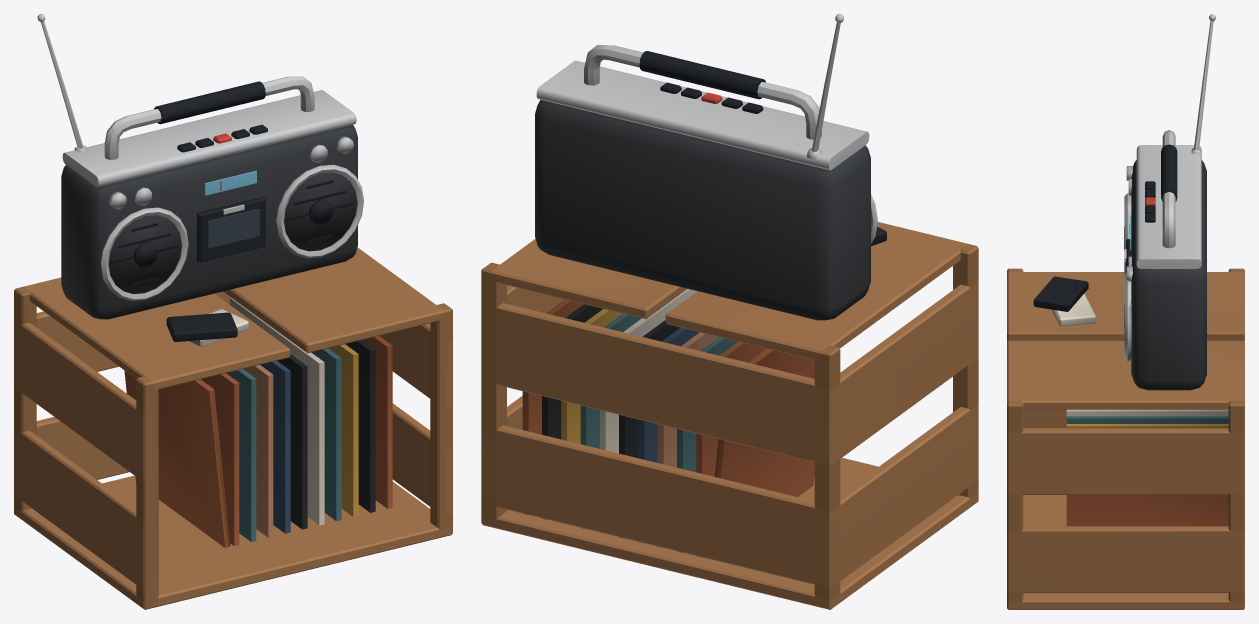
Rendered from boombox.glb.
The picture shows the model from 3 angles, left to right: view 1: azimuth 30°, elevation 25°; view 2: azimuth 150°, elevation 25°; view 3: azimuth 270°, elevation 25°; orthographic projection. The views are drawn at different scales.
Visible parts, largest first — view 1: boombox, door; view 2: boombox; view 3: boombox.
Boxes of the visible parts, x1,y1,x2,y2 form: boombox: [14, 14, 452, 609]; door: [198, 198, 265, 262]; boombox: [481, 14, 978, 609]; boombox: [1007, 14, 1244, 609].
Bounding box in the file's own units: 0.6 × 0.947 × 0.44.
